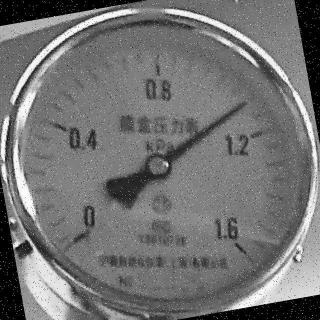gauge: (0, 0, 320, 320), (56, 214, 102, 258), (218, 222, 255, 262), (140, 150, 177, 184), (232, 94, 260, 115)
